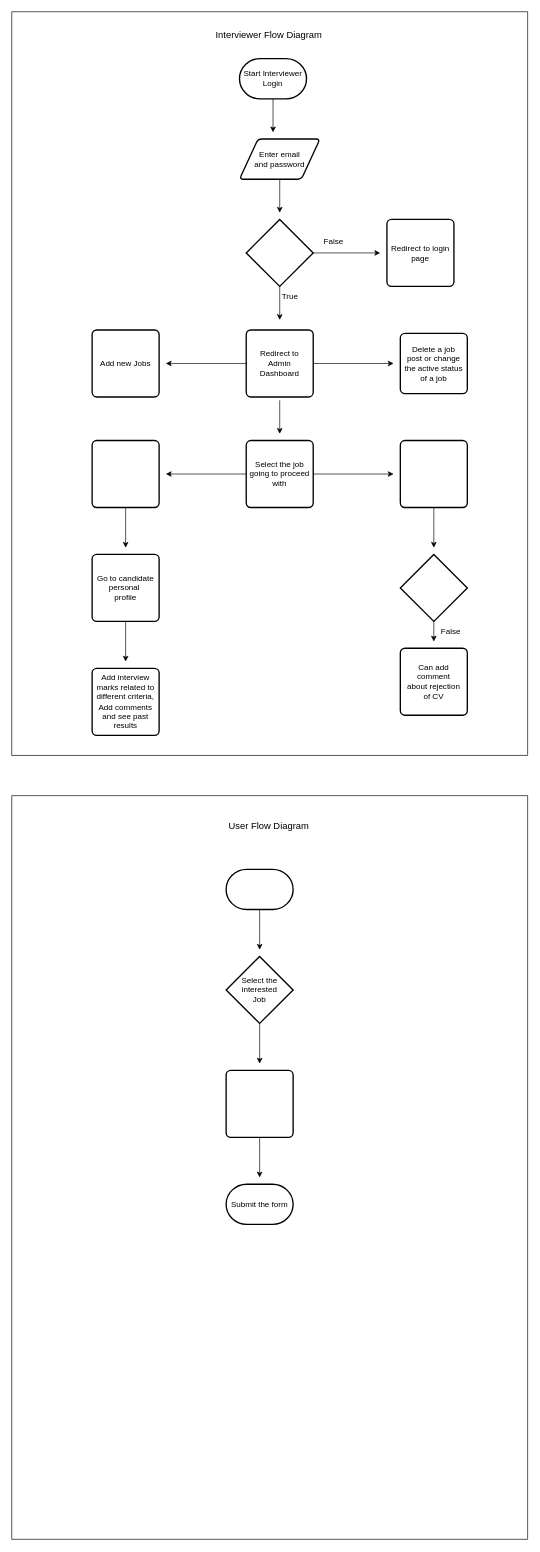
This 540x1552 diagram has some shape labels left out. Here are the shapes that lost their labels. From the top down, the centre of each, then its label:
At pixel 279 252: "Authentication validation".
At pixel 125 474: "Redirect to shortlisted and interviewed candidate page".
At pixel 433 474: "Redirect to Applicants page".
At pixel 433 587: "Shortlist candidates".
At pixel 259 889: "Start in Job Opportunity page in LB Finance".
At pixel 259 1103: "Redirect to form to fill (The job description is shown here)".
